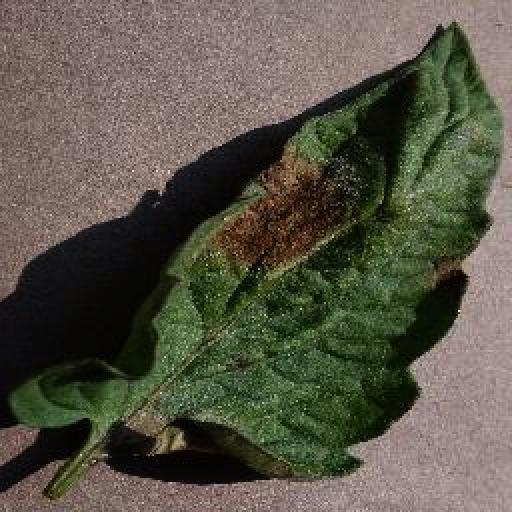disease_tomato: (4, 18, 504, 484)
